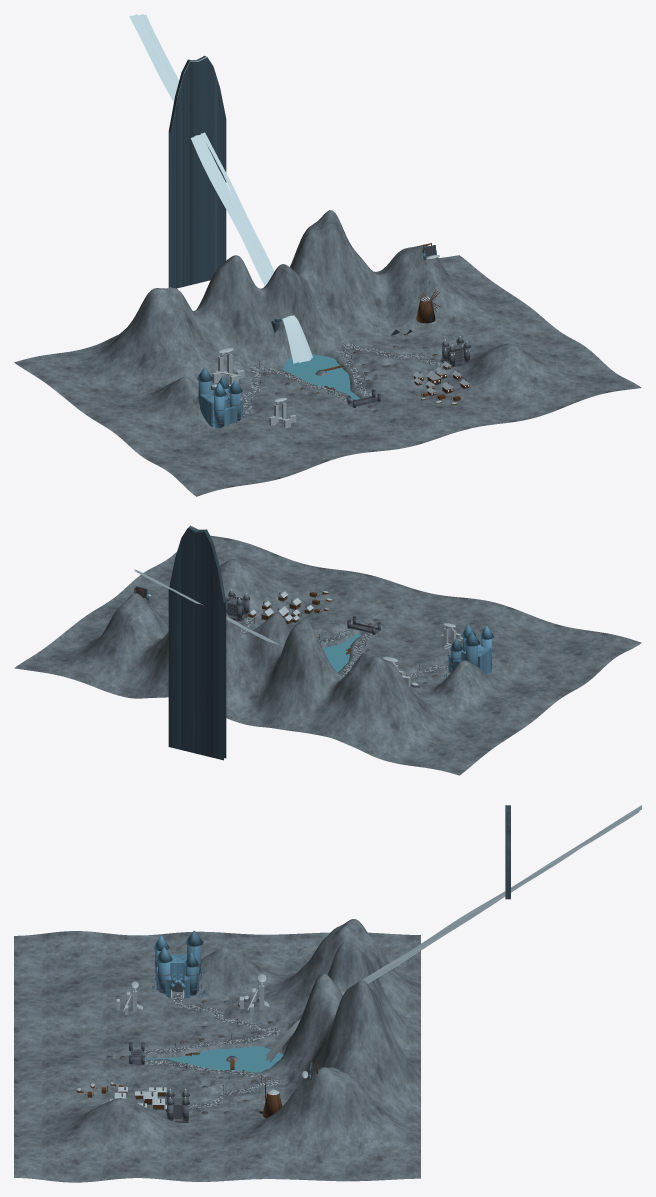
Rendered from world_ice.glb.
The picture shows the model from 3 angles, top to bottom: view 1: azimuth 30°, elevation 25°; view 2: azimuth 150°, elevation 25°; view 3: azimuth 270°, elevation 25°; orthographic projection. The views are drawn at different scales.
Parts seen in each view (by area): view 1: Mountain_ground, Wet_cliff_stone, Waterfall, Soft_windblown_snow, Blue_glacial_ice, Bay_water, Old_road_stones, Weathered_granite, Old_oak; view 2: Mountain_ground, Wet_cliff_stone, Soft_windblown_snow, Blue_glacial_ice, Weathered_granite, Old_road_stones, Bay_water, Old_oak, Waterfall; view 3: Mountain_ground, Soft_windblown_snow, Blue_glacial_ice, Waterfall, Old_road_stones, Bay_water, Weathered_granite, Old_oak, Wet_cliff_stone.
Part boxes in pixels (x1=…): Mountain_ground: x1=14, y1=210, x2=641, y2=496; Wet_cliff_stone: x1=168, y1=55, x2=281, y2=332; Waterfall: x1=129, y1=14, x2=312, y2=363; Soft_windblown_snow: x1=171, y1=56, x2=470, y2=428; Blue_glacial_ice: x1=194, y1=251, x2=436, y2=429; Bay_water: x1=282, y1=354, x2=359, y2=399; Old_road_stones: x1=240, y1=343, x2=442, y2=415; Weathered_granite: x1=198, y1=301, x2=469, y2=424; Old_oak: x1=324, y1=289, x2=469, y2=405; Mountain_ground: x1=14, y1=535, x2=641, y2=775; Wet_cliff_stone: x1=168, y1=526, x2=226, y2=760; Soft_windblown_snow: x1=189, y1=525, x2=462, y2=687; Blue_glacial_ice: x1=146, y1=594, x2=495, y2=683; Weathered_granite: x1=226, y1=592, x2=492, y2=687; Old_road_stones: x1=240, y1=617, x2=448, y2=677; Bay_water: x1=323, y1=634, x2=361, y2=672; Old_oak: x1=248, y1=592, x2=350, y2=654; Waterfall: x1=134, y1=569, x2=279, y2=644; Mountain_ground: x1=14, y1=919, x2=420, y2=1182; Soft_windblown_snow: x1=77, y1=805, x2=505, y2=1108; Blue_glacial_ice: x1=107, y1=930, x2=311, y2=1113; Waterfall: x1=266, y1=805, x2=641, y2=1062; Old_road_stones: x1=143, y1=994, x2=283, y2=1109; Bay_water: x1=145, y1=1046, x2=283, y2=1072; Weathered_granite: x1=106, y1=963, x2=275, y2=1122; Old_oak: x1=76, y1=1052, x2=282, y2=1118; Wet_cliff_stone: x1=300, y1=805, x2=510, y2=1018.
Bounding box in the file's own units: 210 × 105 × 230.
Materials: 20 (14 with a texture image).
